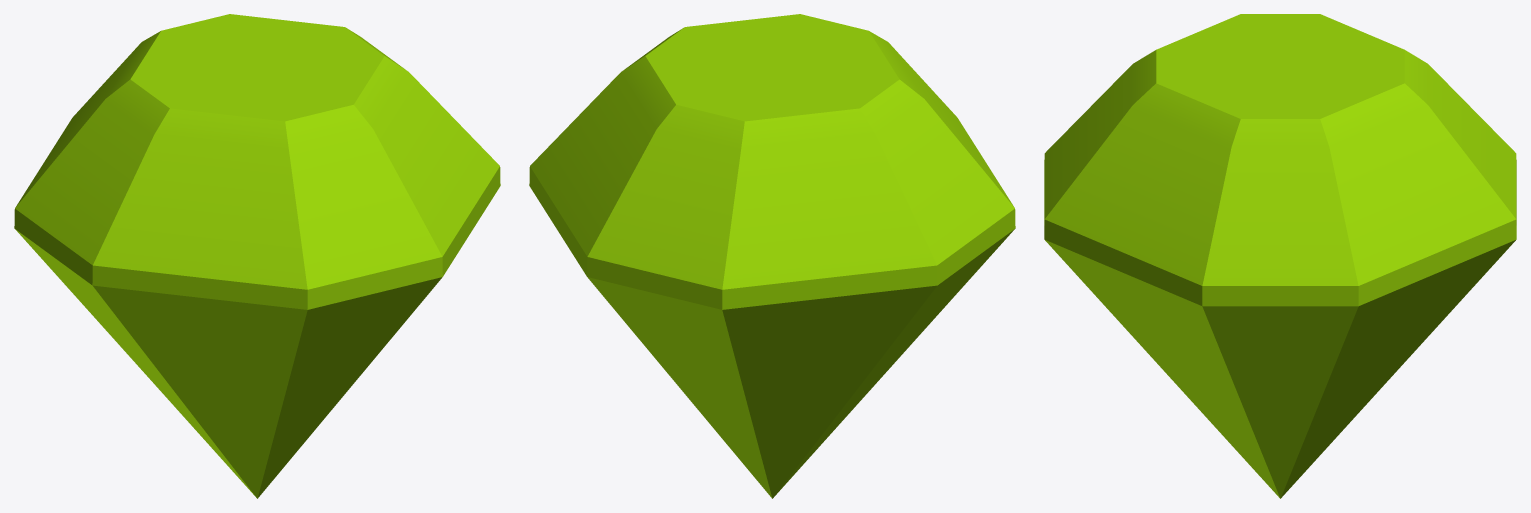
Rendered from adelsten.glb.
3 renders of one model, left to right at view 1: azimuth 30°, elevation 25°; view 2: azimuth 150°, elevation 25°; view 3: azimuth 270°, elevation 25°, orthographic.
Visible parts, largest first — view 1: UI_Gem_Green; view 2: UI_Gem_Green; view 3: UI_Gem_Green.
Part boxes in pixels (box(x1,y1,x2,y2)): UI_Gem_Green: box(14, 14, 500, 498); UI_Gem_Green: box(529, 14, 1015, 498); UI_Gem_Green: box(1044, 14, 1516, 498).
Size of the model in its own units: 0.5602 by 0.5657 by 0.5602.
Materials: 1 (1 with a texture image).
